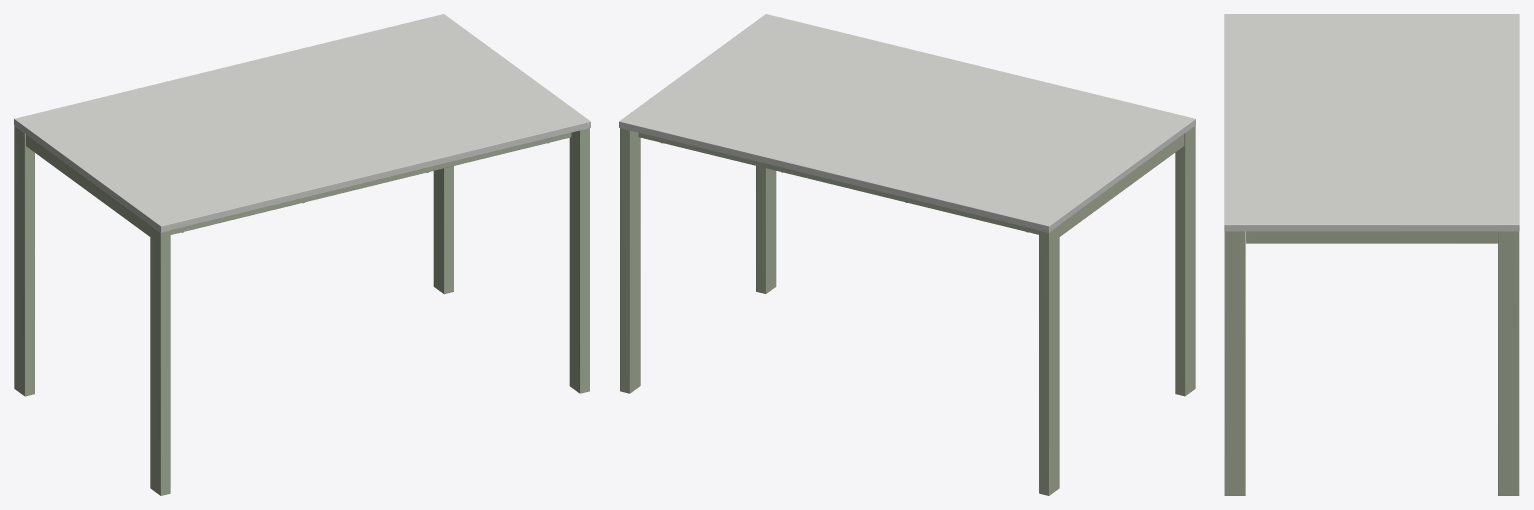
File: 09 - VIHALS Table - whitegreen 125x74 cm.glb
3 views of the same model, side by side, from view 1: azimuth 30°, elevation 25°; view 2: azimuth 150°, elevation 25°; view 3: azimuth 270°, elevation 25° (orthographic).
Visible parts, largest first — view 1: 89578516_table:1, 89578516_table:2; view 2: 89578516_table:1, 89578516_table:2; view 3: 89578516_table:1, 89578516_table:2.
Part boxes in pixels (x1,y1,x2,y2): 89578516_table:1: (14, 14, 590, 232); 89578516_table:2: (14, 126, 589, 495); 89578516_table:1: (619, 14, 1195, 232); 89578516_table:2: (620, 125, 1195, 495); 89578516_table:1: (1224, 14, 1519, 231); 89578516_table:2: (1224, 231, 1519, 495).
Size of the model in its own units: 1.25 by 0.75 by 0.74.
